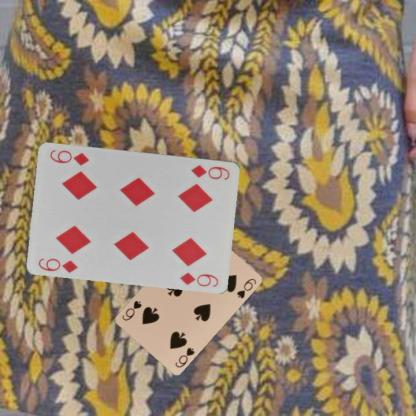6d: (188, 162, 231, 181), (36, 255, 79, 274)
6s: (172, 344, 196, 369)
